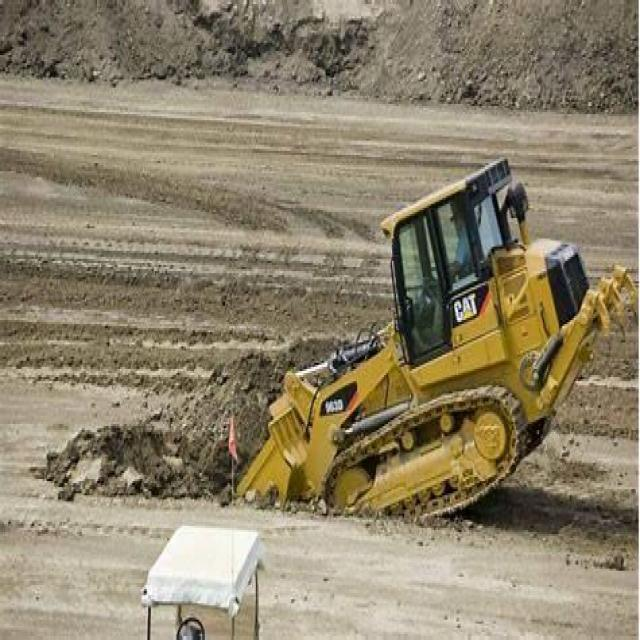Bulldozer: (243, 140, 633, 576)
